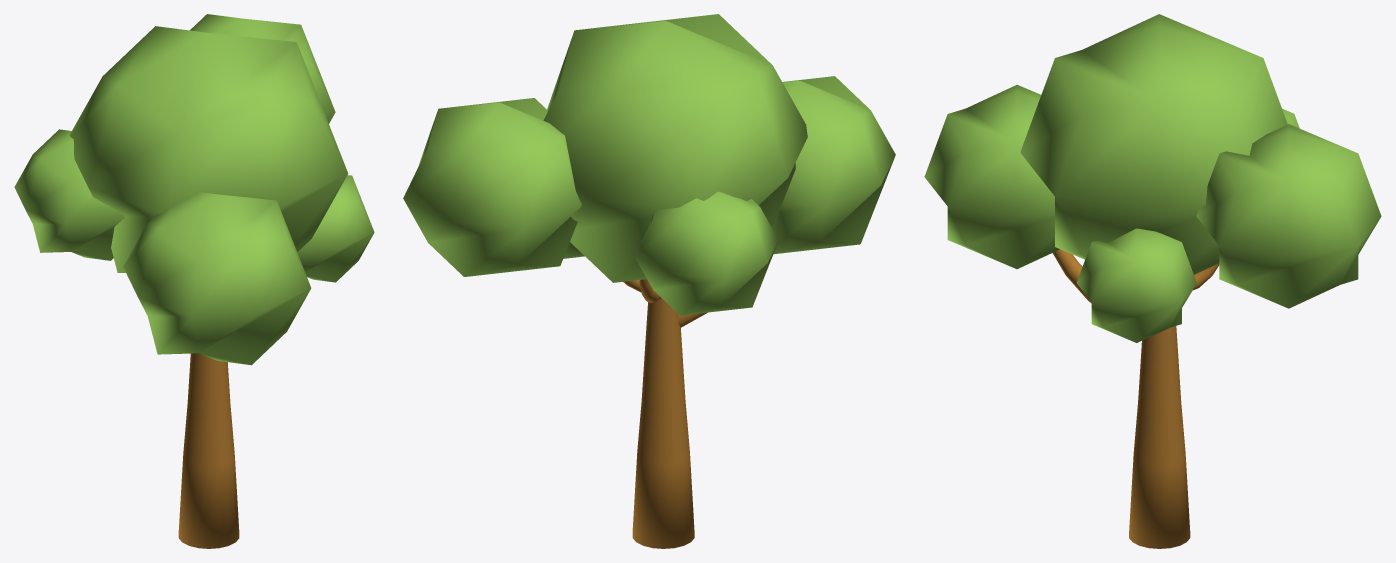
Rendered from arbre_feuille.fbx.
3 views of the same model, side by side, from view 1: azimuth 30°, elevation 25°; view 2: azimuth 150°, elevation 25°; view 3: azimuth 270°, elevation 25° (orthographic). The views are drawn at different scales.
Visible parts, largest first — view 1: arbre2; view 2: arbre2; view 3: arbre2.
Part boxes in pixels (left/top/right/bottom): arbre2: left=14, top=14, right=374, bottom=548; arbre2: left=403, top=14, right=895, bottom=548; arbre2: left=924, top=14, right=1381, bottom=548.
Size of the model in its own units: 0.6592 by 0.9953 by 0.8114.
